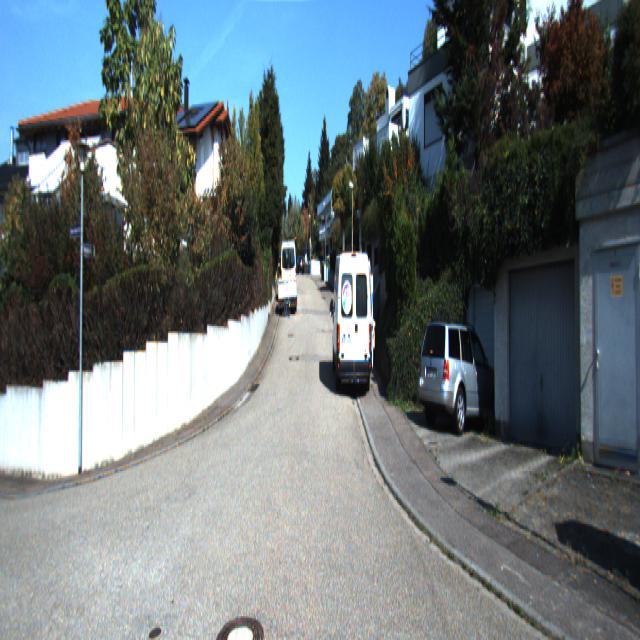Car: (416, 319, 506, 435), (331, 240, 375, 390), (281, 240, 297, 306), (278, 278, 298, 311)
